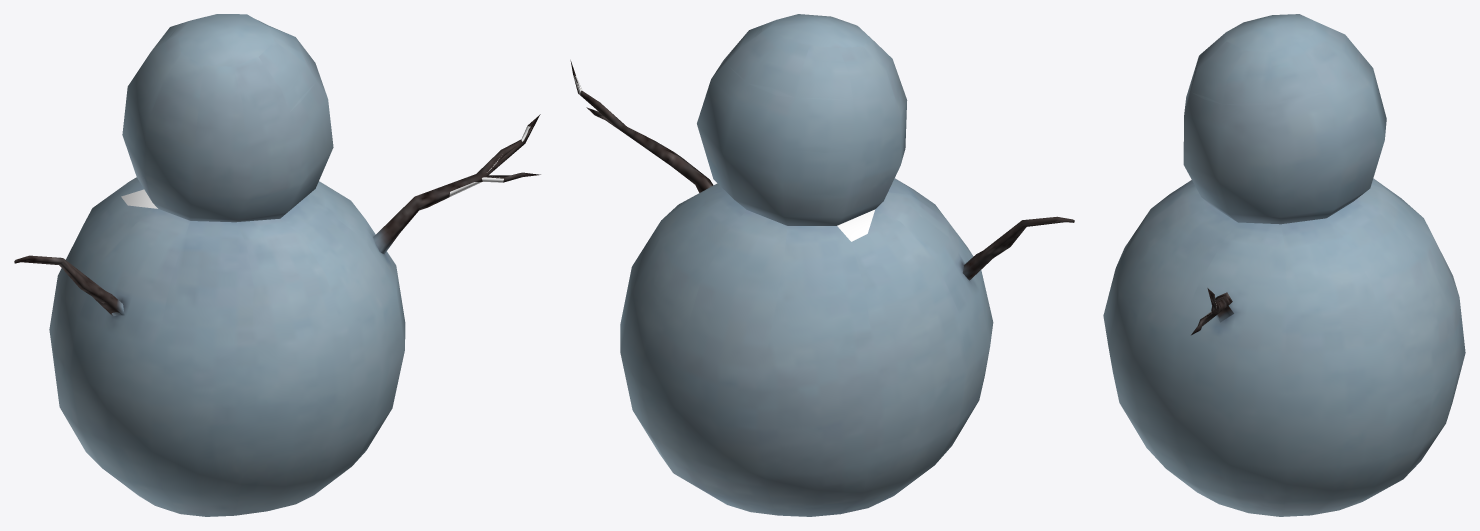
Rendered from objects_un_t08snowman01.gltf.
The picture shows the model from 3 angles, left to right: view 1: azimuth 30°, elevation 25°; view 2: azimuth 150°, elevation 25°; view 3: azimuth 270°, elevation 25°; orthographic projection.
Parts seen in each view (by area): view 1: um_objects_un_t08snowman01_model_lod0Shape:objects_un_t08sno (×2), um_objects_un_t08snowman01_model_lod1Shape:objects_un_t08sno; view 2: um_objects_un_t08snowman01_model_lod0Shape:objects_un_t08sno (×2), um_objects_un_t08snowman01_model_lod1Shape:objects_un_t08sno; view 3: um_objects_un_t08snowman01_model_lod0Shape:objects_un_t08sno, um_objects_un_t08snowman01_model_lod1Shape:objects_un_t08sno.
Part boxes in pixels (<box>): um_objects_un_t08snowman01_model_lod0Shape:objects_un_t08sno (×2): <box>14,14,540,516</box>; um_objects_un_t08snowman01_model_lod1Shape:objects_un_t08sno: <box>20,55,539,316</box>; um_objects_un_t08snowman01_model_lod0Shape:objects_un_t08sno (×2): <box>570,14,1074,516</box>; um_objects_un_t08snowman01_model_lod1Shape:objects_un_t08sno: <box>580,46,1064,280</box>; um_objects_un_t08snowman01_model_lod0Shape:objects_un_t08sno: <box>1103,14,1465,516</box>; um_objects_un_t08snowman01_model_lod1Shape:objects_un_t08sno: <box>1192,52,1379,326</box>.
Bounding box in the file's own units: 3.17 × 2.74 × 1.95.
Materials: 2 (1 with a texture image).
